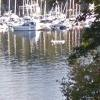Boat: (7, 9, 73, 34)
